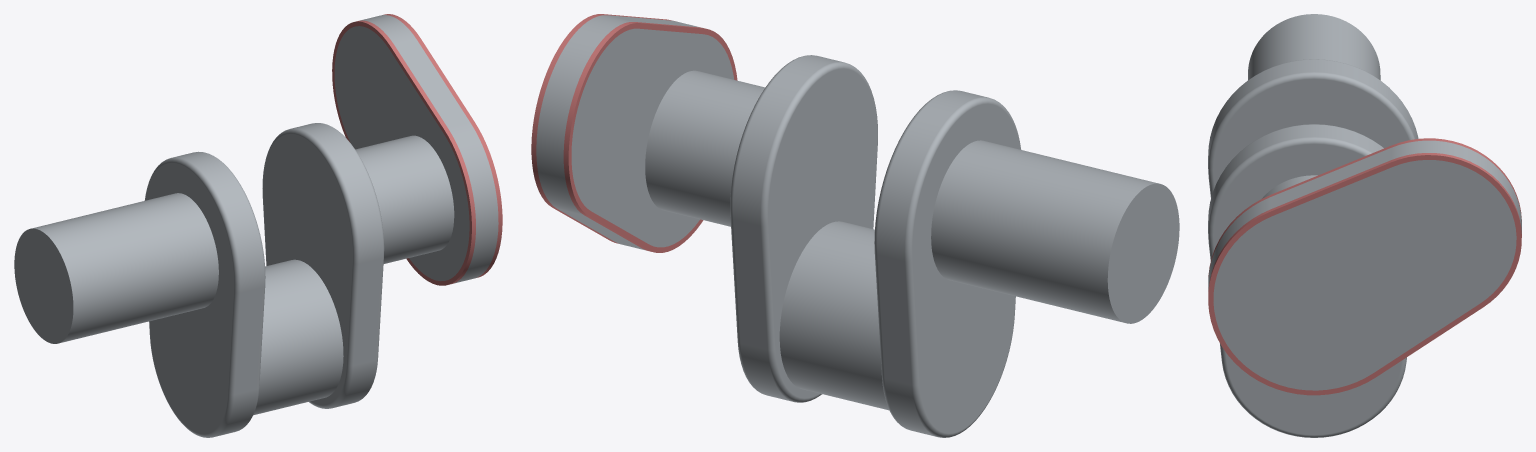
The model's file is step_08.glb.
The picture shows the model from 3 angles, left to right: view 1: azimuth 30°, elevation 25°; view 2: azimuth 150°, elevation 25°; view 3: azimuth 270°, elevation 25°; orthographic projection. The views are drawn at different scales.
Parts seen in each view (by area): view 1: part__crankshaft, removed__crankshaft; view 2: part__crankshaft, removed__crankshaft; view 3: part__crankshaft, removed__crankshaft.
Part boxes in pixels (box(x1,y1,x2,y2)): part__crankshaft: box(14, 15, 498, 437); removed__crankshaft: box(332, 14, 502, 285); part__crankshaft: box(536, 15, 1179, 437); removed__crankshaft: box(531, 14, 737, 252); part__crankshaft: box(1208, 14, 1521, 437); removed__crankshaft: box(1208, 138, 1521, 395).
Bounding box in the file's own units: 255 × 184 × 150.
